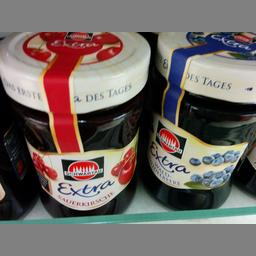jam: (0, 31, 151, 217), (140, 31, 254, 210)
